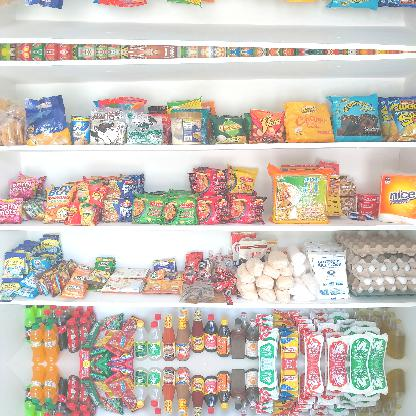Lady-s-Choice: (168, 112, 202, 145)
